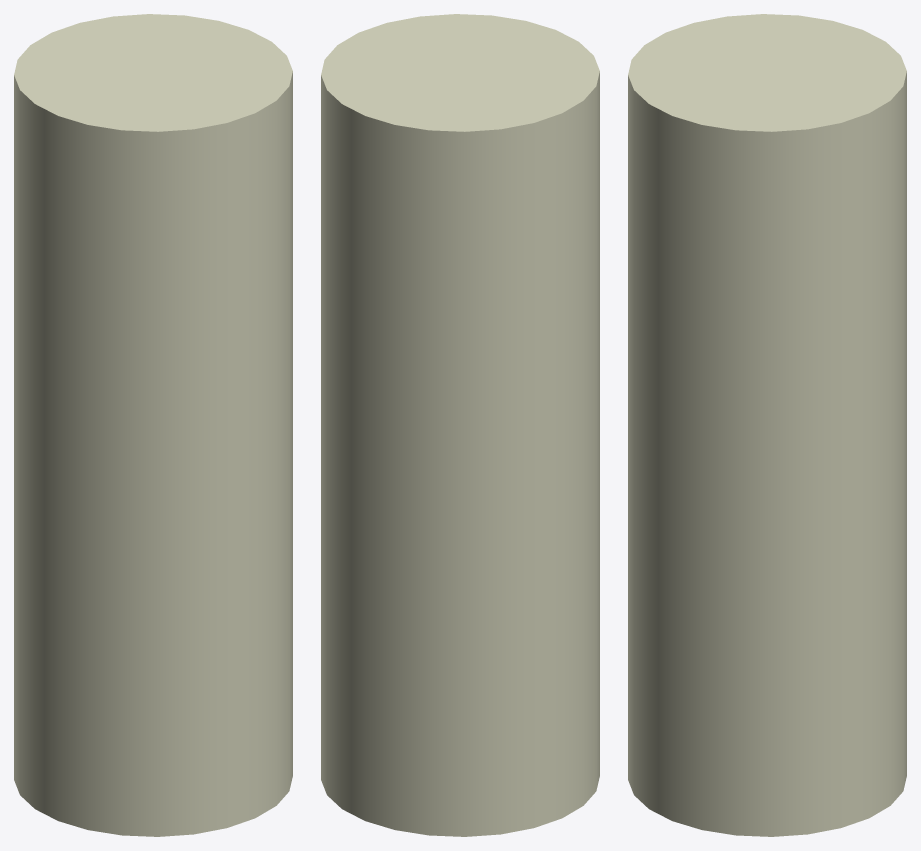
The model's file is original-104.obj.
3 renders of one model, left to right at view 1: azimuth 30°, elevation 25°; view 2: azimuth 150°, elevation 25°; view 3: azimuth 270°, elevation 25°, orthographic.
Parts seen in each view (by area): view 1: #ID493; view 2: #ID493; view 3: #ID493.
Part boxes in pixels (x1,y1,x2,y2): #ID493: (14,14,292,836); #ID493: (321,14,599,836); #ID493: (628,14,906,836).
Size of the model in its own units: 0.0401 by 0.1118 by 0.0401.
